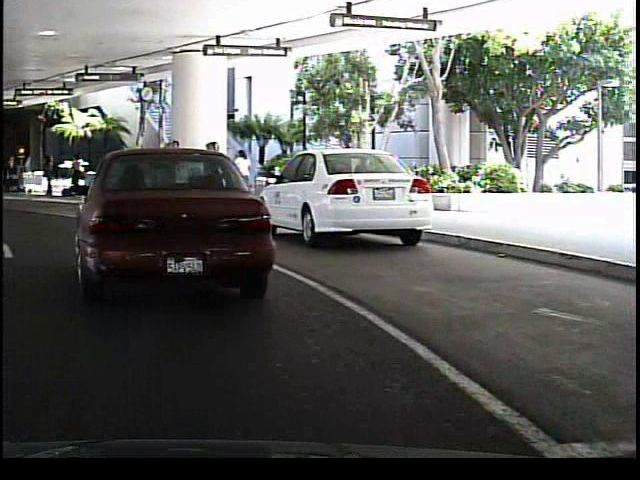person: (159, 135, 185, 207), (195, 136, 220, 210), (228, 145, 255, 203), (38, 149, 58, 202), (64, 155, 85, 196)
